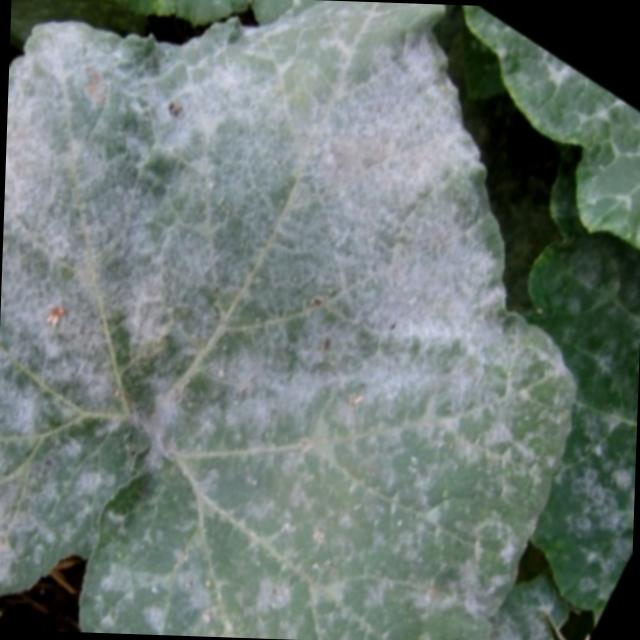Powdery_Mildew: (0, 2, 640, 640), (404, 280, 640, 640), (0, 87, 213, 483), (437, 10, 640, 341)
